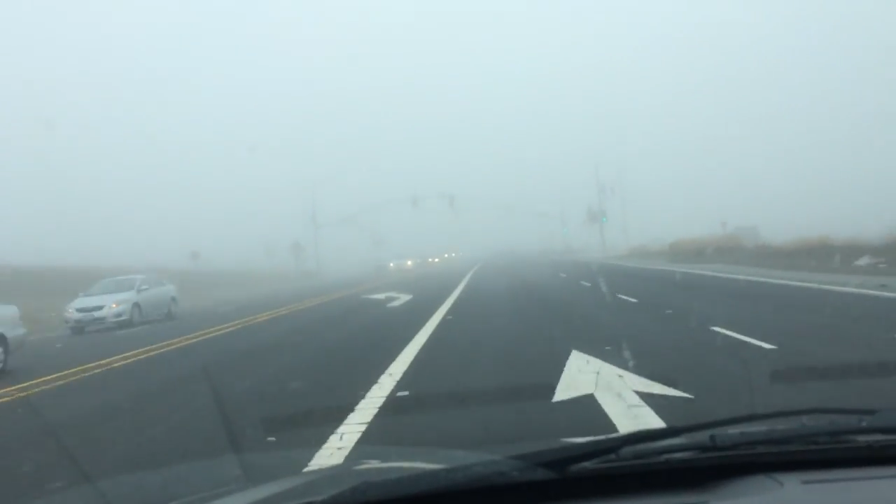car: (62, 274, 180, 335), (1, 303, 28, 376), (388, 256, 414, 273), (425, 252, 444, 267), (443, 253, 453, 262)
